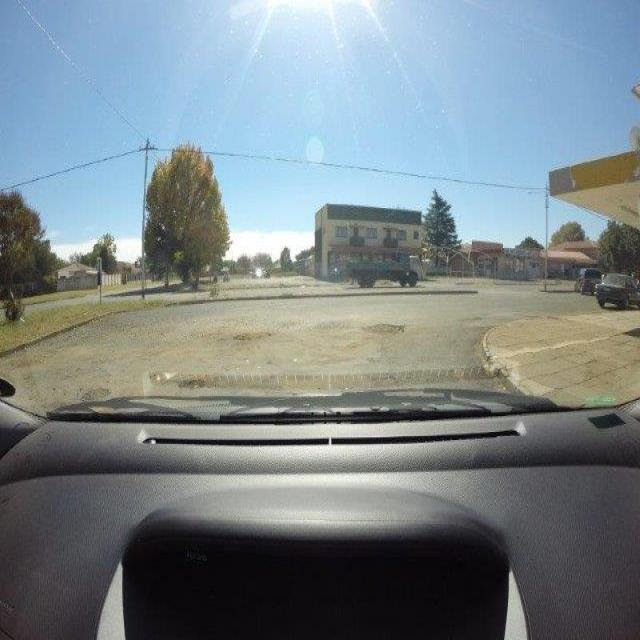lubang: (217, 324, 277, 347), (72, 381, 112, 401), (362, 320, 405, 333)
